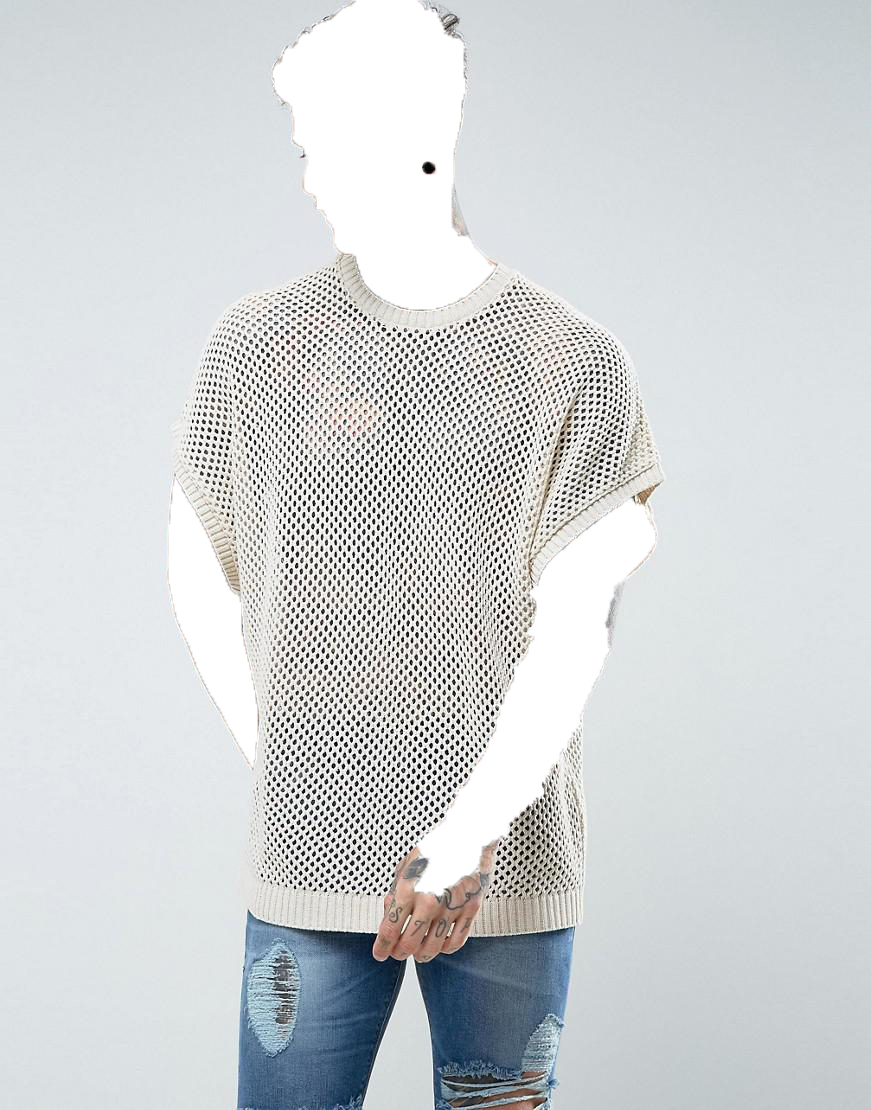teeshirt: (174, 249, 664, 946)
